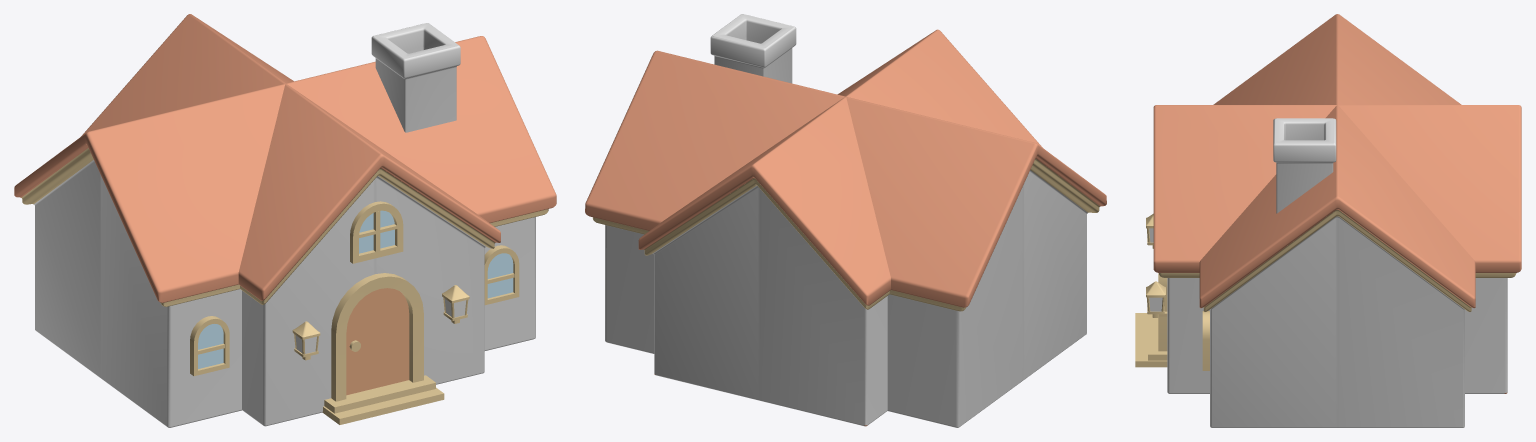
Rendered from House01.glb.
The picture shows the model from 3 angles, left to right: view 1: azimuth 30°, elevation 25°; view 2: azimuth 150°, elevation 25°; view 3: azimuth 270°, elevation 25°; orthographic projection. The views are drawn at different scales.
Visible parts, largest first — view 1: House, Door, SmokePipe, Window, Lamp; view 2: House, SmokePipe; view 3: House, SmokePipe, Door, Lamp, Window.
Part boxes in pixels (bbox=[...]): House: bbox=[14, 14, 556, 427]; Door: bbox=[322, 273, 444, 424]; SmokePipe: bbox=[371, 23, 460, 132]; Window: bbox=[190, 201, 519, 376]; Lamp: bbox=[292, 285, 469, 360]; House: bbox=[585, 29, 1106, 427]; SmokePipe: bbox=[710, 14, 796, 83]; House: bbox=[1153, 14, 1521, 427]; SmokePipe: bbox=[1273, 118, 1336, 213]; Door: bbox=[1135, 273, 1167, 367]; Lamp: bbox=[1146, 213, 1167, 317]; Window: bbox=[1202, 311, 1209, 370].
Bounding box in the file's own units: 1.34 × 0.8937 × 1.18.
